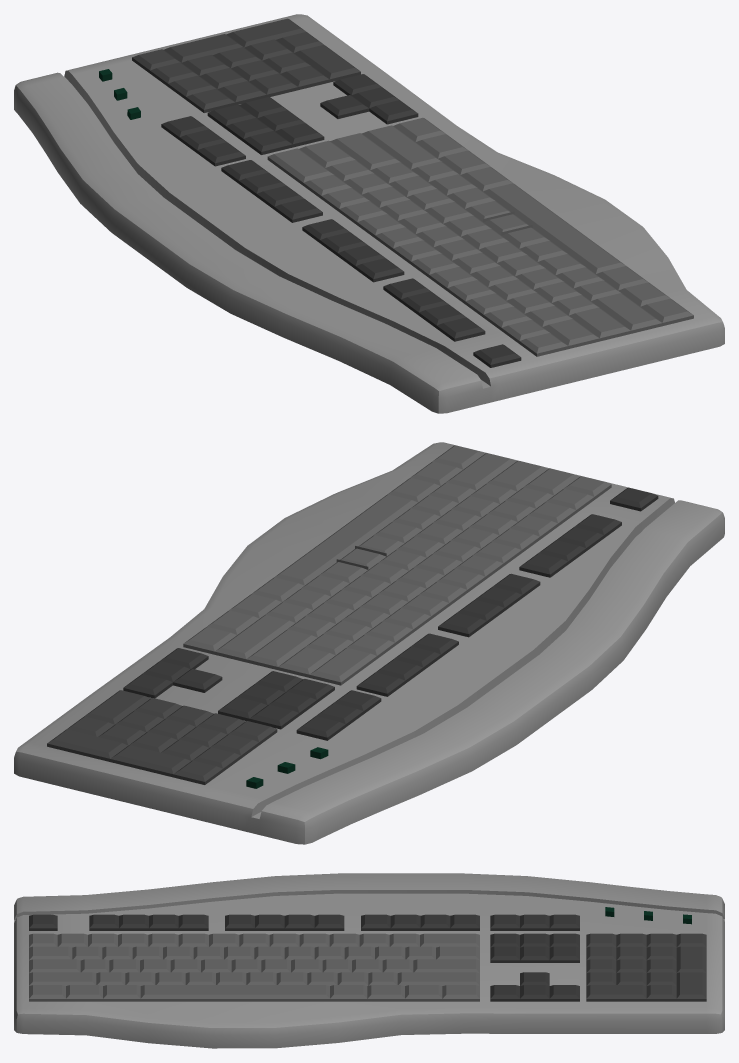
Rendered from Computer_Keyboard_01.glb.
3 views of the same model, one above another, from view 1: azimuth 30°, elevation 25°; view 2: azimuth 150°, elevation 25°; view 3: azimuth 270°, elevation 25° (orthographic). The views are drawn at different scales.
Parts seen in each view (by area): view 1: Mesh_Computer_Keyboard_01; view 2: Mesh_Computer_Keyboard_01; view 3: Mesh_Computer_Keyboard_01.
Boxes of the visible parts, x1=… form: Mesh_Computer_Keyboard_01: x1=14, y1=14, x2=724, y2=413; Mesh_Computer_Keyboard_01: x1=14, y1=442, x2=724, y2=844; Mesh_Computer_Keyboard_01: x1=14, y1=873, x2=724, y2=1048.
Bounding box in the file's own units: 0.294 × 0.0235 × 0.5625.
Materials: 1 (1 with a texture image).
